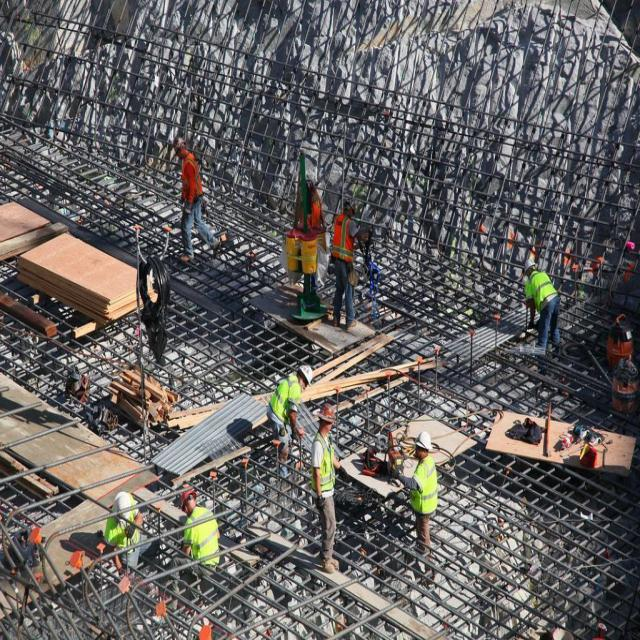vest: (184, 503, 222, 574), (406, 457, 442, 520), (520, 264, 562, 315), (100, 509, 144, 557), (311, 428, 338, 505), (268, 370, 302, 426), (178, 152, 206, 206), (329, 208, 356, 262)
